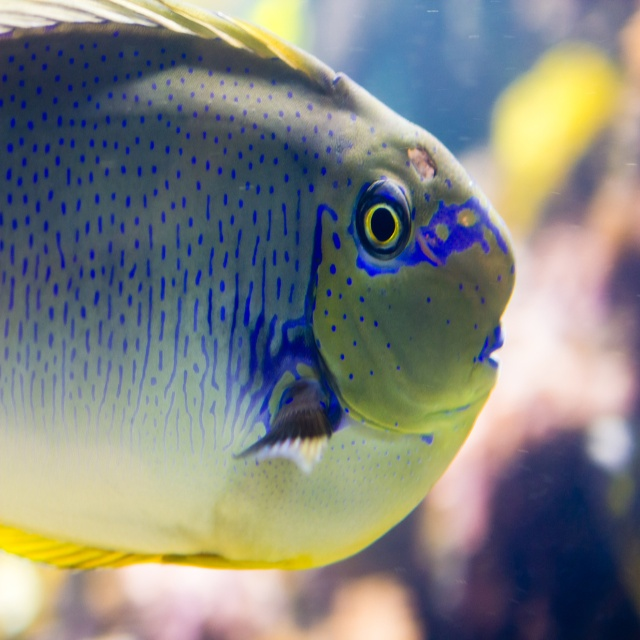Fish: (0, 0, 519, 575)
